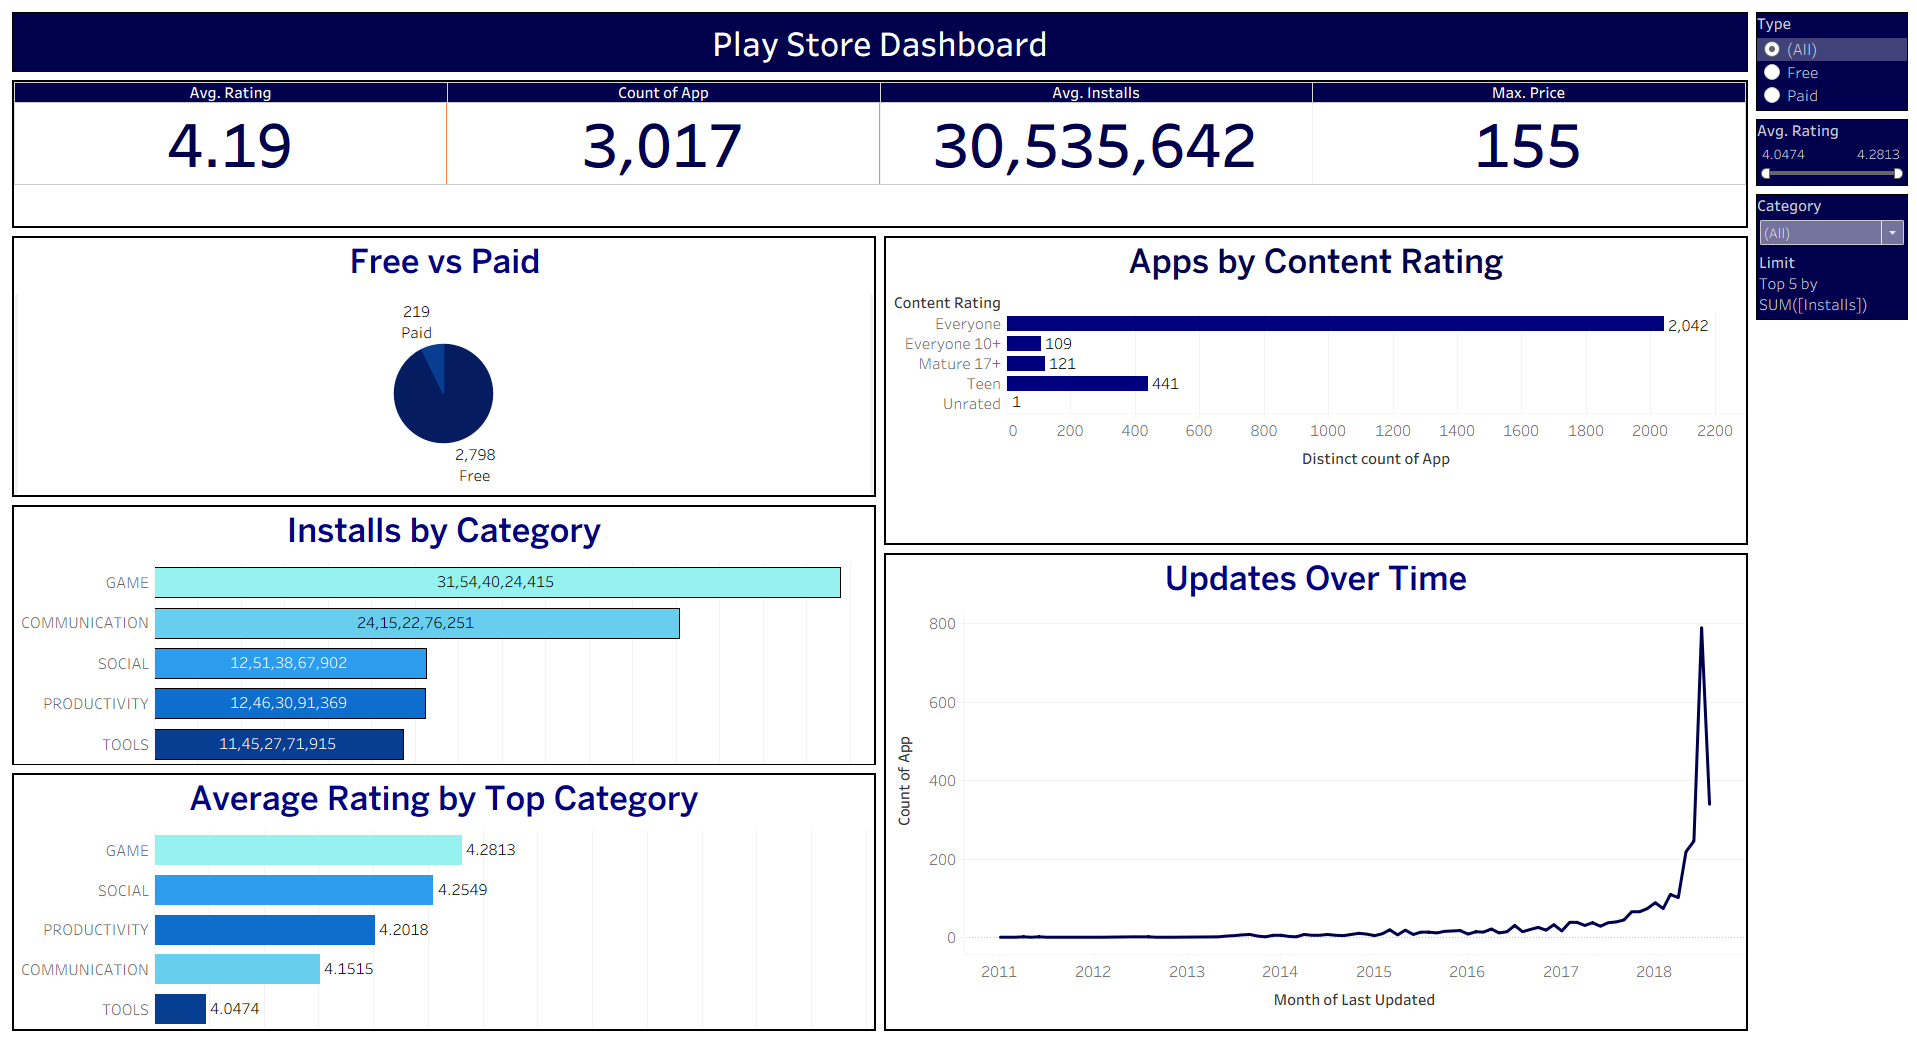

Layout of this report page (visuals, bound fields, positions):
{"tool":"tableau","page":{"name":"Dashboard 1","canvas":[1000,1000],"units":"permille","ordinal":0},"visuals":[{"type":"text","box":[4.8,9.4,893.8,64.5]},{"type":"filter","title":"Free vs Paid","param":"[federated.1jnrxn10nibkbf181w0wz0qwp50p].[none:Type:nk]","box":[898.6,9.4,96.6,125.7]},{"type":"worksheet","title":"Total app","mark":"Automatic","box":[4.8,73.9,893.8,149.2]},{"type":"filter","title":"Average Rating by Category","param":"[federated.1jnrxn10nibkbf181w0wz0qwp50p].[avg:Rating:qk]","box":[898.6,135.1,96.6,88.1]},{"type":"worksheet","title":"Free vs Paid","mark":"Pie","box":[4.8,223.2,446.8,256.8]},{"type":"worksheet","title":"Apps by Content Rating","mark":"Automatic","rows":["Content Rating"],"cols":["App"],"box":[451.6,223.2,447,303.2]},{"type":"filter","title":"Install by cat","param":"[federated.1jnrxn10nibkbf181w0wz0qwp50p].[none:Category:nk]","box":[898.6,223.3,96.6,157.5]},{"type":"worksheet","title":"Install by cat","mark":"Automatic","rows":["Category"],"cols":["Installs"],"box":[4.8,479.9,446.8,256.8]},{"type":"worksheet","title":"Updates Over Time","mark":"Automatic","rows":["App"],"cols":["Last Updated"],"box":[451.6,526.4,447,464.2]},{"type":"worksheet","title":"Average Rating by Category","mark":"Automatic","rows":["Category"],"cols":["Rating"],"box":[4.8,736.8,446.8,253.8]}]}

Visuals, with their boxes on the dashboard's canvas, which has no fixed pixel size, in thousandths of its width and height (x1, y1, x2, y2). These are canvas units, not pixel positions in the 1917x1037 screenshot, which may show the page scaled, cropped or inside an application window:
text: l=5, t=9, r=899, b=74
"Free vs Paid" filter: l=899, t=9, r=995, b=135
"Total app" worksheet: l=5, t=74, r=899, b=223
"Average Rating by Category" filter: l=899, t=135, r=995, b=223
"Free vs Paid" worksheet (Pie marks): l=5, t=223, r=452, b=480
"Apps by Content Rating" worksheet: l=452, t=223, r=899, b=526
"Install by cat" filter: l=899, t=223, r=995, b=381
"Install by cat" worksheet: l=5, t=480, r=452, b=737
"Updates Over Time" worksheet: l=452, t=526, r=899, b=991
"Average Rating by Category" worksheet: l=5, t=737, r=452, b=991
